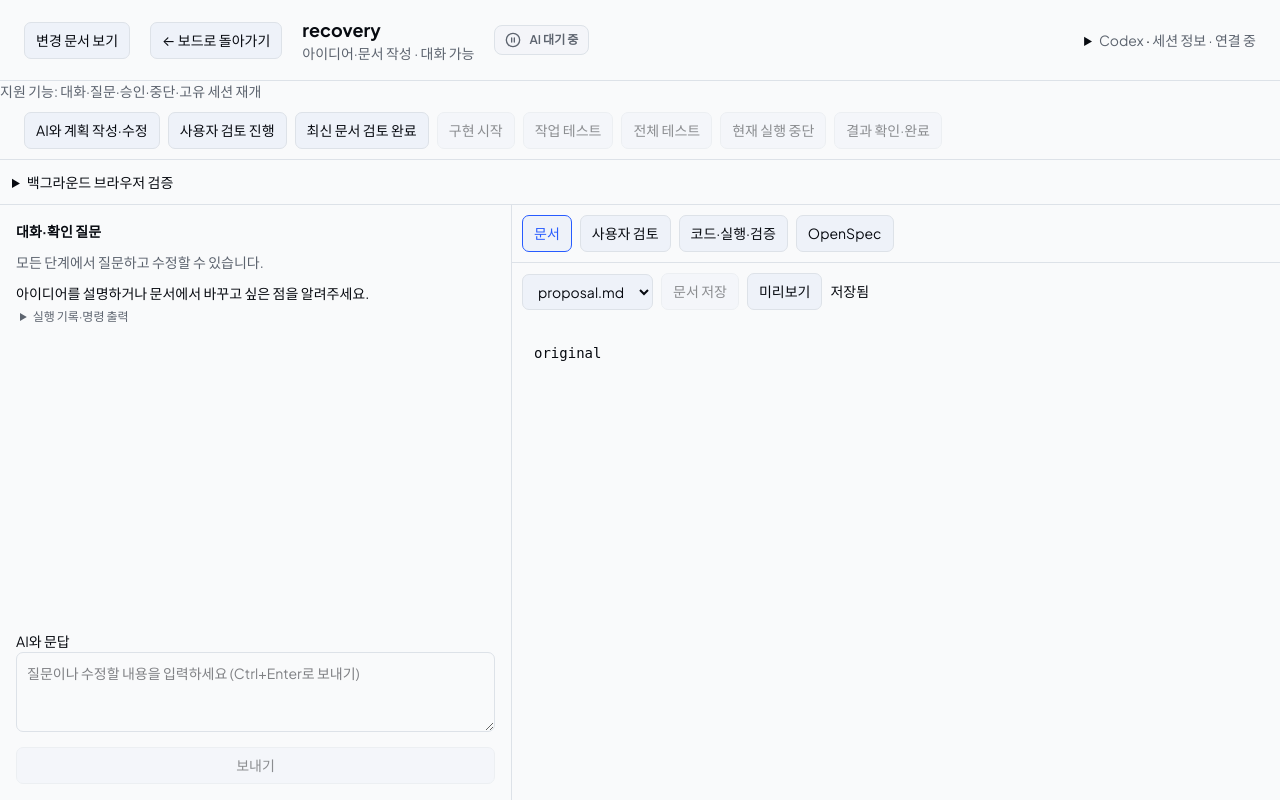
preserves newer message input typed while an earlier message is being sent
This screenshot has width=1280, height=800.
expect the text box named "문서 내용" is shown: met, box top-left (512, 320), bottom-right (1279, 799)
Type "first message" into the text box labelled "AI와 문답".
click(256, 692); type("first message")  # box top-left (16, 652), bottom-right (495, 732)
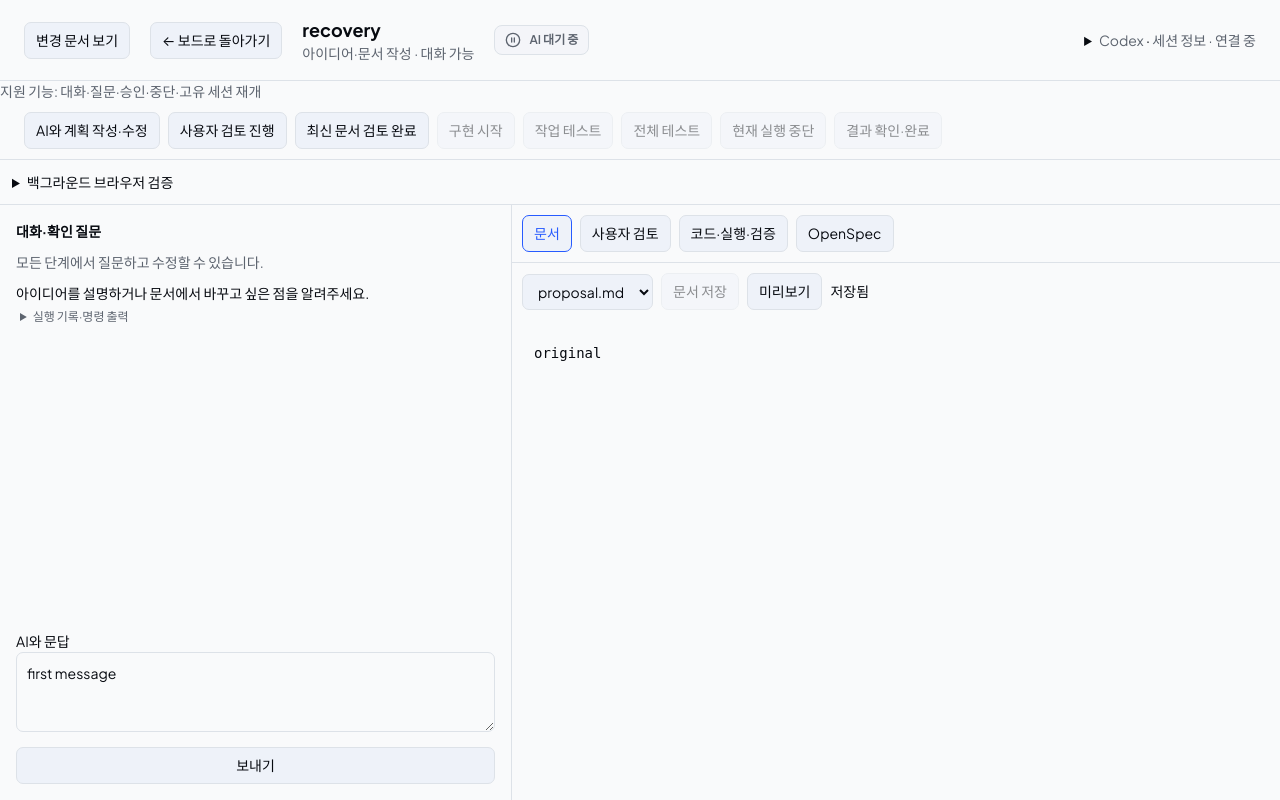
Click the button "보내기".
click(256, 766)  # box top-left (16, 747), bottom-right (495, 784)
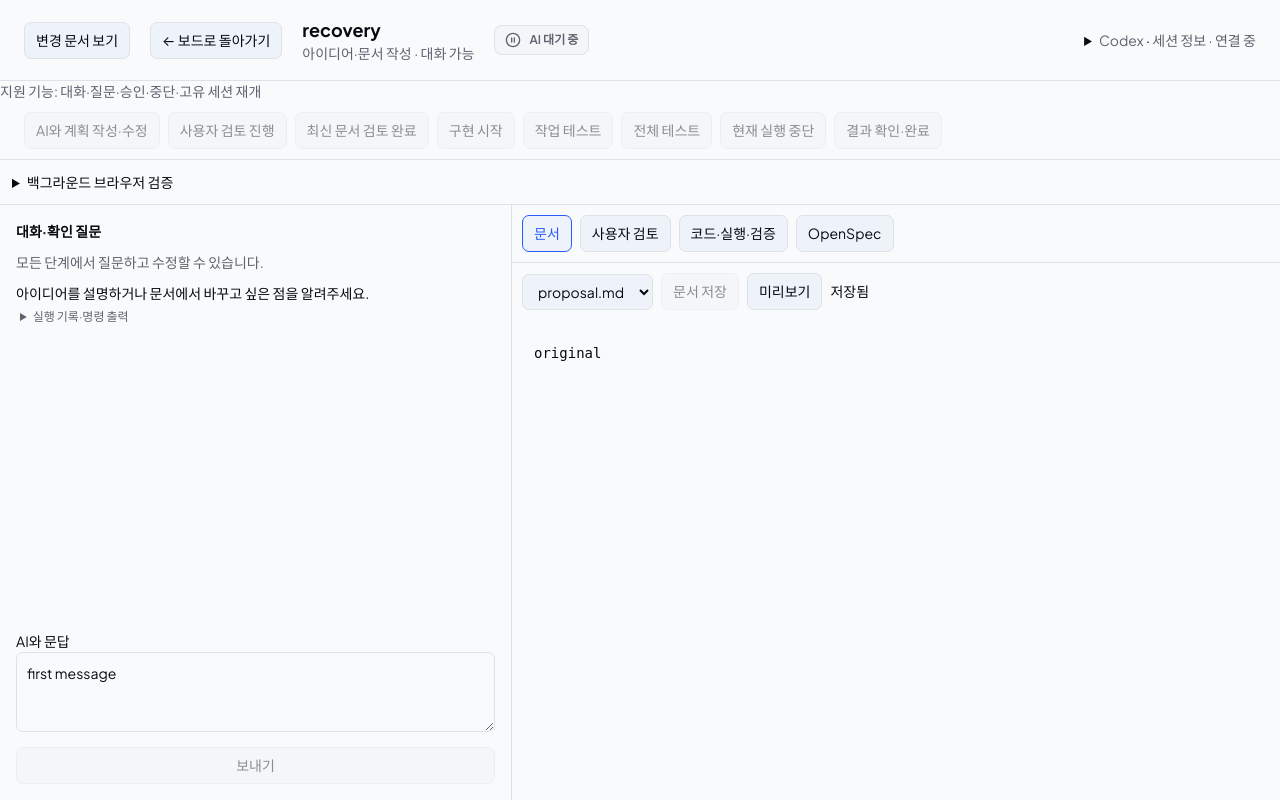
Replace the text in the text box labelled "AI와 문답" with "next message draft" at (256, 692), box top-left (16, 652), bottom-right (495, 732)
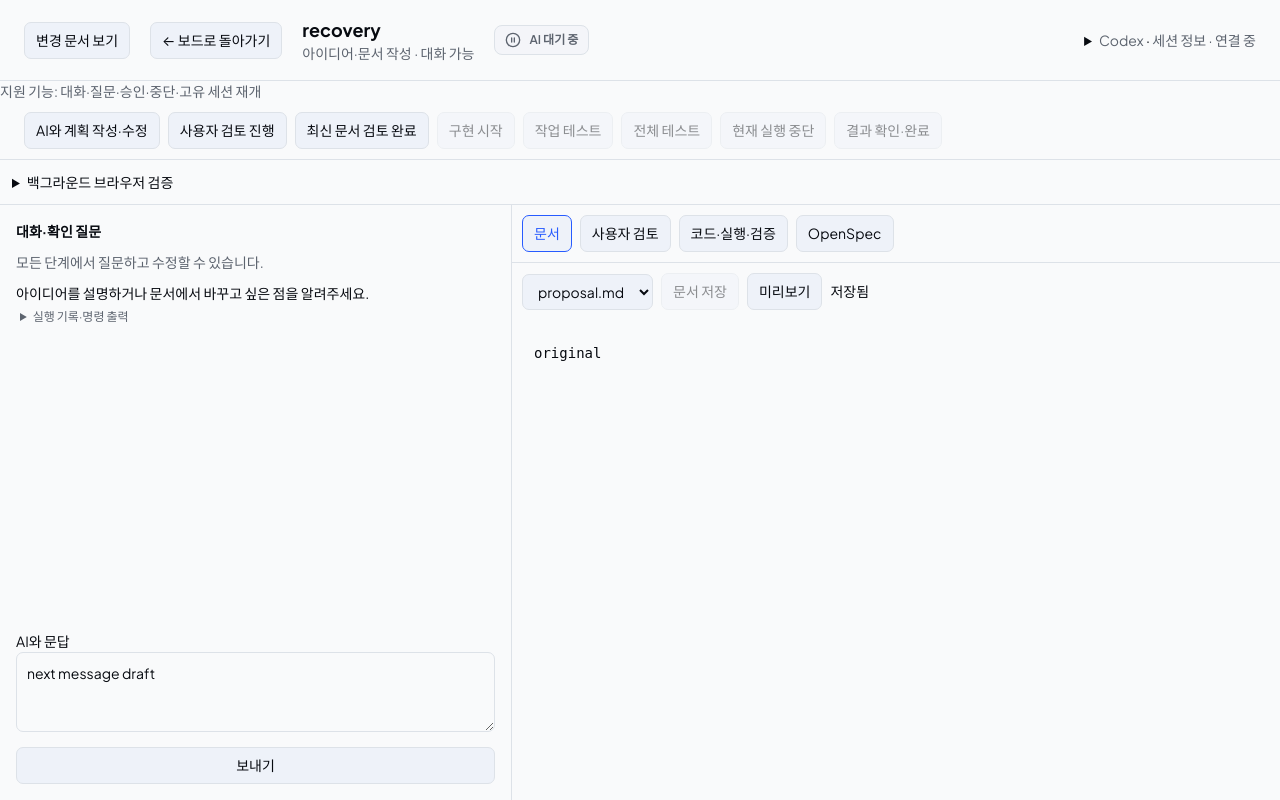
expect the button "보내기" is enabled: met, box top-left (16, 747), bottom-right (495, 784)
